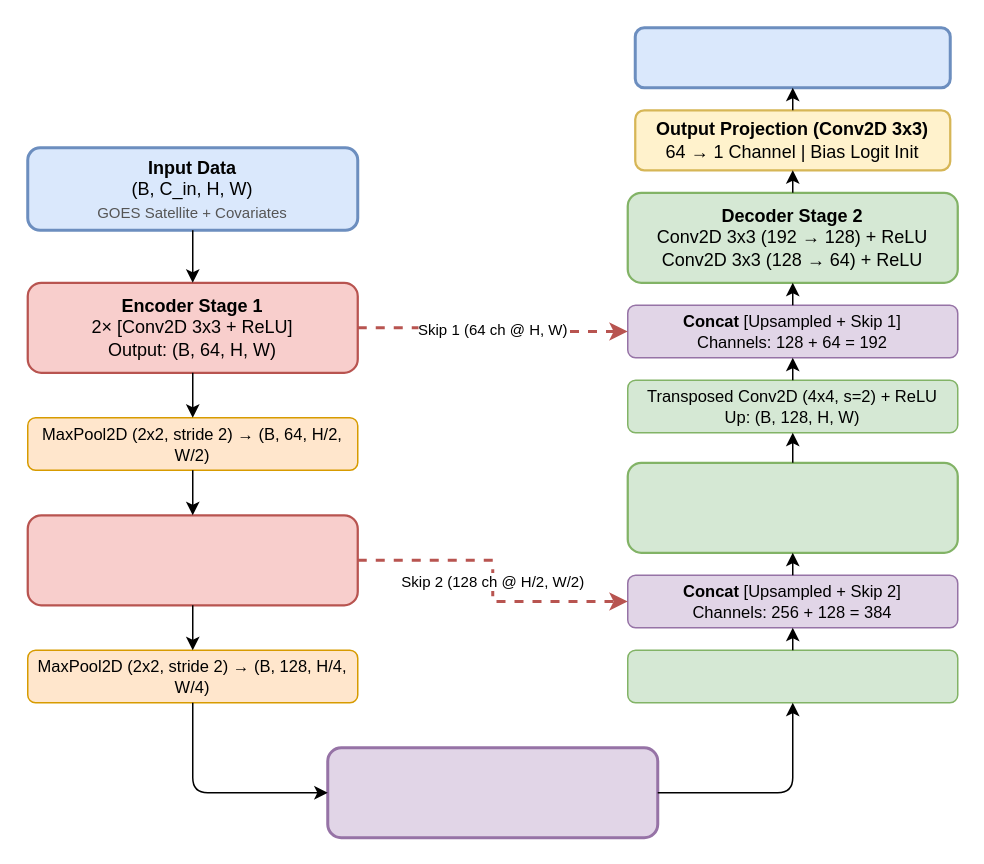
Some shapes in this 984 by 864 pixel diagram are drawn without their labels. Here are the shapes that lost their labels. From the top down, the box of each, then its label:
(633, 26, 951, 88): Predicted Output (B, 1, H, W)
(626, 461, 958, 553): Decoder Stage 1 Conv2D 3x3 (384 → 256) + ReLU Conv2D 3x3 (256 → 128) + ReLU
(26, 513, 358, 606): Encoder Stage 2 2× [Conv2D 3x3 + ReLU] Output: (B, 128, H/2, W/2)
(626, 649, 958, 703): Transposed Conv2D (4x4, s=2) + ReLU Up: (B, 256, H/2, W/2)
(326, 746, 658, 838): Latent Bottleneck Conv2D 3x3 + ReLU Output: (B, 256, H/4, W/4)
